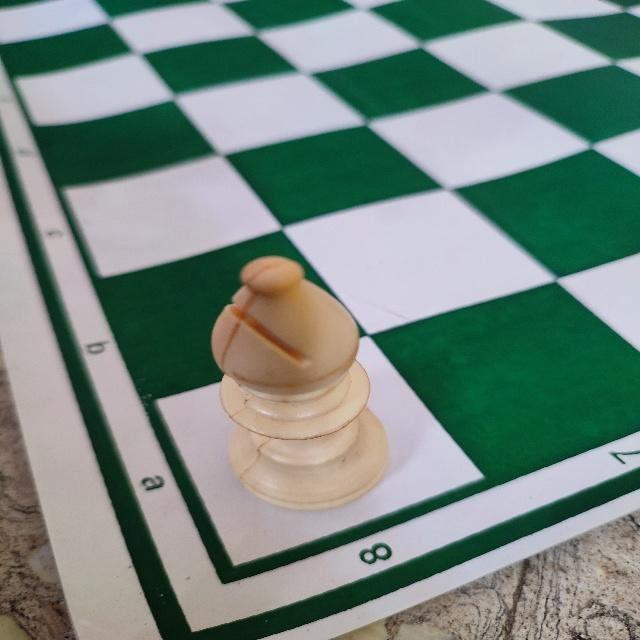Bishop: (210, 254, 391, 514)
